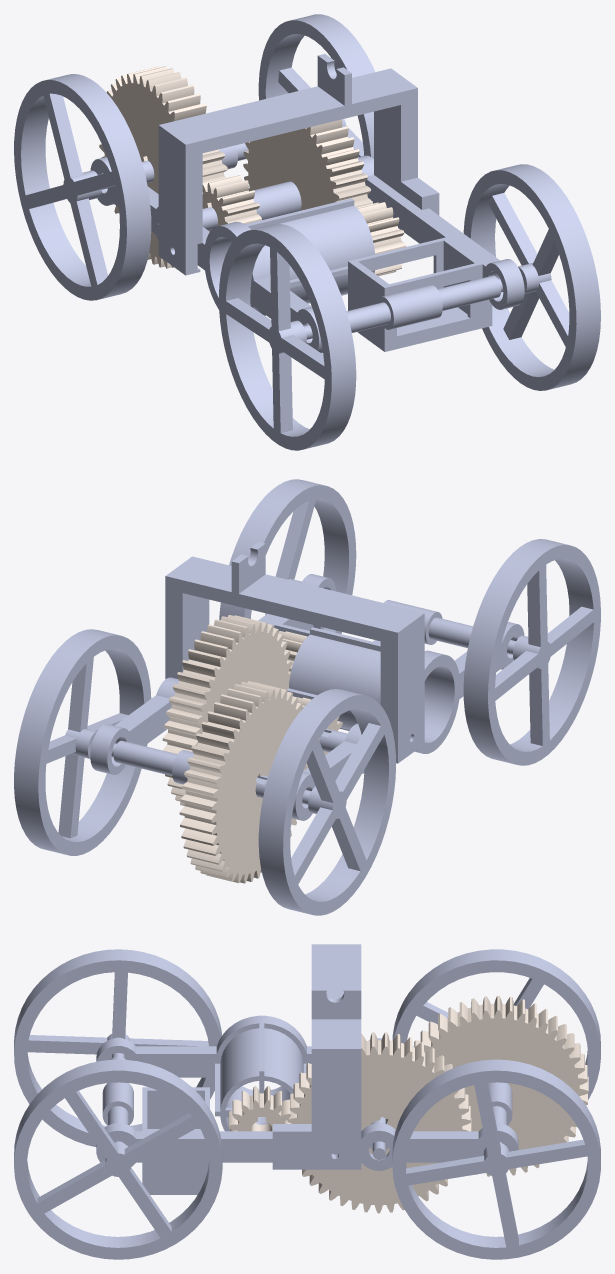
The model's file is Assem2.glb.
The picture shows the model from 3 angles, top to bottom: view 1: azimuth 30°, elevation 25°; view 2: azimuth 150°, elevation 25°; view 3: azimuth 270°, elevation 25°; orthographic projection. The views are drawn at different scales.
Visible parts, largest first — view 1: Frame3-1, Wheel-2, Wheel-4, Wheel-1, Frame2-1, Frame1-1, spur gear_am-4, spur gear_am-3, Wheel-3, Front_Axle-1, spur gear_am-2, Axle1-1 (+2 smaller); view 2: Wheel-2, Wheel-4, Frame3-1, Wheel-3, spur gear_am-3, Frame1-1, spur gear_am-4, Wheel-1, Frame2-1, Axle2-1, Front_Axle-1; view 3: Wheel-1, Wheel-3, Frame3-1, spur gear_am-3, spur gear_am-4, Frame2-1, Wheel-2, Frame1-1, Wheel-4, spur gear_am-1, Front_Axle-1, Axle2-1.
Part boxes in pixels (left/top/right/bottom): Frame3-1: left=158, top=54, right=439, bottom=275; Wheel-2: left=219, top=224, right=356, bottom=450; Wheel-4: left=14, top=74, right=151, bottom=300; Wheel-1: left=463, top=164, right=600, bottom=390; Frame2-1: left=348, top=155, right=524, bottom=351; Frame1-1: left=90, top=157, right=374, bottom=353; spur gear_am-4: left=243, top=119, right=372, bottom=210; spur gear_am-3: left=99, top=66, right=227, bottom=268; Wheel-3: left=258, top=14, right=375, bottom=158; Front_Axle-1: left=303, top=275, right=503, bottom=339; spur gear_am-2: left=202, top=175, right=261, bottom=231; Axle1-1: left=155, top=181, right=301, bottom=236; Wheel-2: left=463, top=539, right=600, bottom=765; Wheel-4: left=258, top=689, right=395, bottom=915; Frame3-1: left=165, top=542, right=424, bottom=763; Wheel-3: left=14, top=629, right=151, bottom=855; spur gear_am-3: left=179, top=681, right=306, bottom=883; Frame1-1: left=287, top=622, right=524, bottom=820; spur gear_am-4: left=162, top=615, right=292, bottom=805; Wheel-1: left=219, top=479, right=356, bottom=633; Frame2-1: left=90, top=574, right=380, bottom=774; Axle2-1: left=111, top=740, right=311, bottom=804; Front_Axle-1: left=384, top=600, right=515, bottom=654; Wheel-1: left=14, top=1059, right=222, bottom=1259; Wheel-3: left=392, top=1059, right=600, bottom=1259; Frame3-1: left=272, top=944, right=361, bottom=1169; spur gear_am-3: left=414, top=995, right=588, bottom=1176; spur gear_am-4: left=287, top=1032, right=471, bottom=1213; Frame2-1: left=96, top=1087, right=518, bottom=1194; Wheel-2: left=14, top=949, right=221, bottom=1146; Frame1-1: left=96, top=1015, right=414, bottom=1131; Wheel-4: left=392, top=949, right=600, bottom=1099; spur gear_am-1: left=228, top=1086, right=291, bottom=1131; Front_Axle-1: left=102, top=1053, right=133, bottom=1144; Axle2-1: left=488, top=1082, right=512, bottom=1143.
Size of the model in its own units: 0.11 by 0.097 by 0.225.
